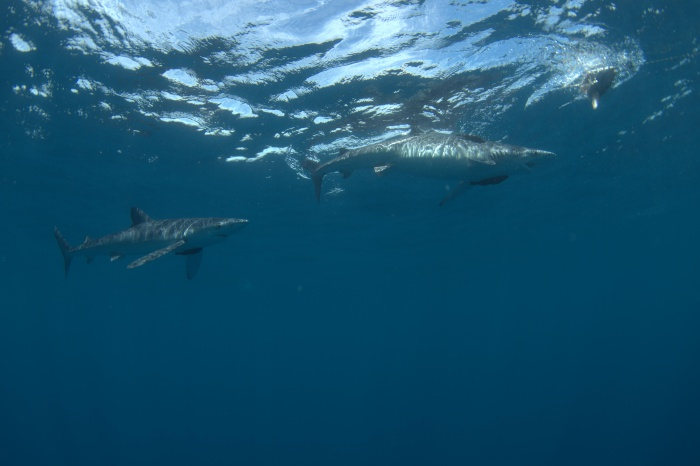Azul: (275, 104, 558, 212), (50, 191, 256, 289)
